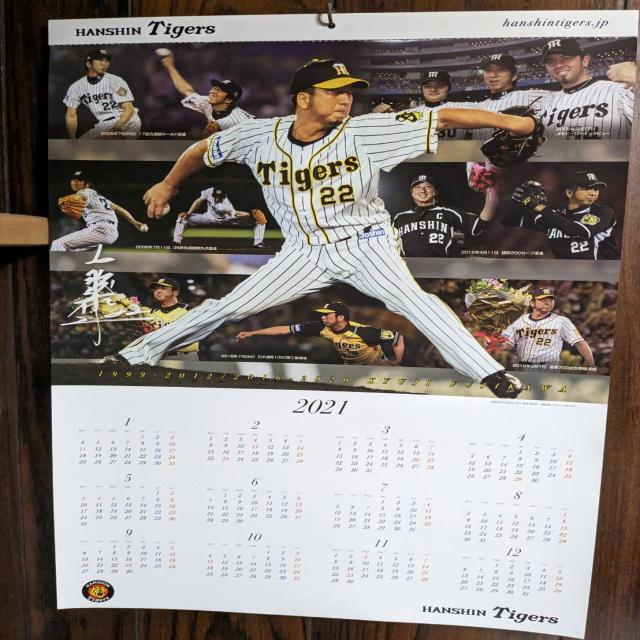calendar: (36, 6, 640, 640)
